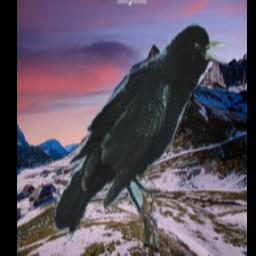Crow: (54, 25, 228, 245)
